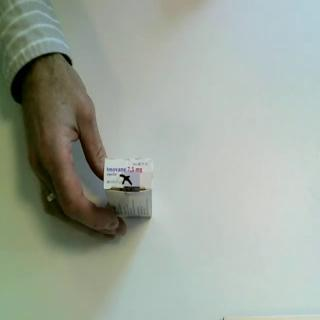imovane7-5mg: (102, 157, 155, 221)
